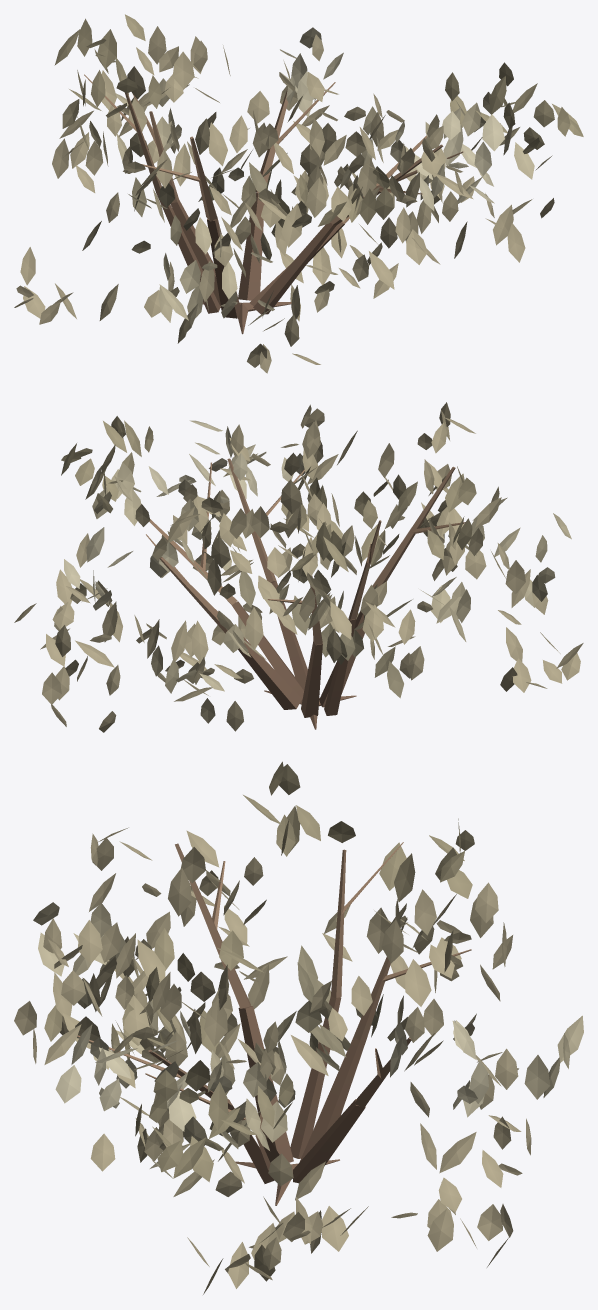
The model's file is bush_3d_05_golden_beige.glb.
The picture shows the model from 3 angles, top to bottom: view 1: azimuth 30°, elevation 25°; view 2: azimuth 150°, elevation 25°; view 3: azimuth 270°, elevation 25°; orthographic projection. The views are drawn at different scales.
Visible parts, largest first — view 1: bush_3d_05_golden_beige_foliage, bush_3d_05_golden_beige_wood; view 2: bush_3d_05_golden_beige_foliage, bush_3d_05_golden_beige_wood; view 3: bush_3d_05_golden_beige_foliage, bush_3d_05_golden_beige_wood.
Boxes of the visible parts, x1,y1,x2,y2 form: bush_3d_05_golden_beige_foliage: (14,14,583,373); bush_3d_05_golden_beige_wood: (84,74,463,334); bush_3d_05_golden_beige_foliage: (14,402,583,732); bush_3d_05_golden_beige_wood: (146,458,465,729); bush_3d_05_golden_beige_foliage: (14,761,583,1294); bush_3d_05_golden_beige_wood: (77,842,471,1205).
Size of the model in its own units: 3 by 1.65 by 2.3.
